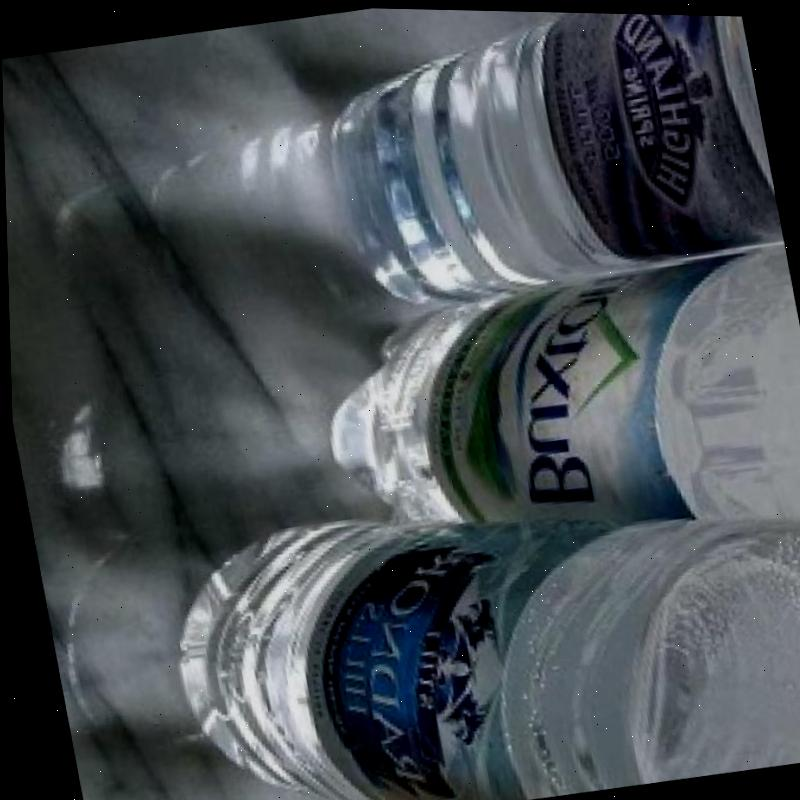botella: (148, 438, 800, 800), (295, 236, 800, 594), (312, 5, 784, 307)
